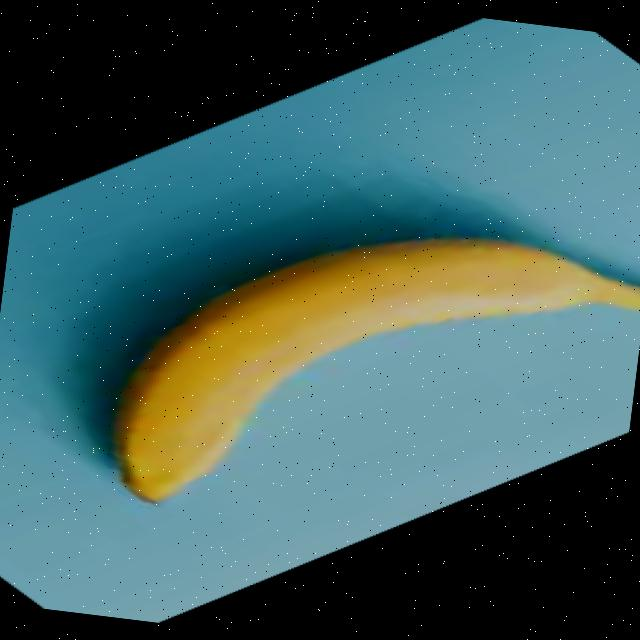banana: (104, 196, 640, 560)
